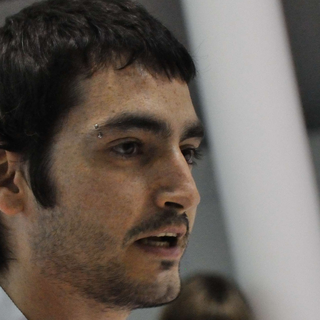eye: (102, 135, 147, 161), (174, 139, 200, 167)
